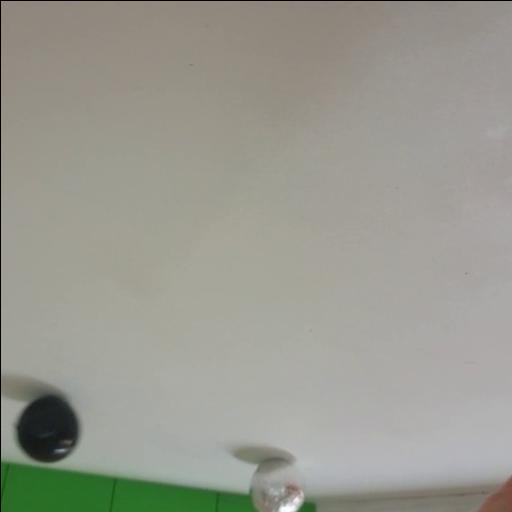alive: (251, 459, 306, 512)
dead: (16, 394, 80, 463)
